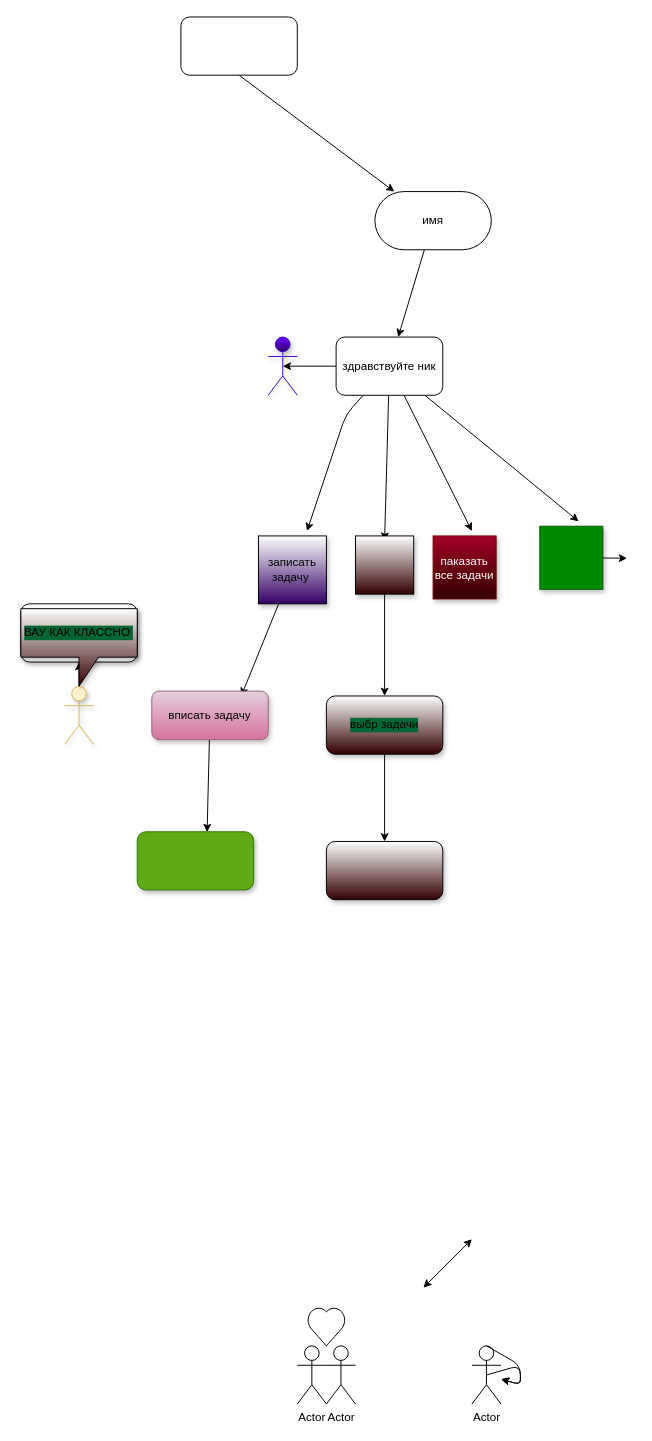
Some shapes in this 652 by 1441 pixel diagram are drawn without their labels. Here are the shapes that lost their labels. From the top down, the centre of each, then its label:
At (238,45): "регистрациия".
At (385,566): "удалить задачу".
At (572,558): "задачи на день".
At (79,716): "пользавотель".
At (195,862): "дата".
At (385,871): "уточнение".
